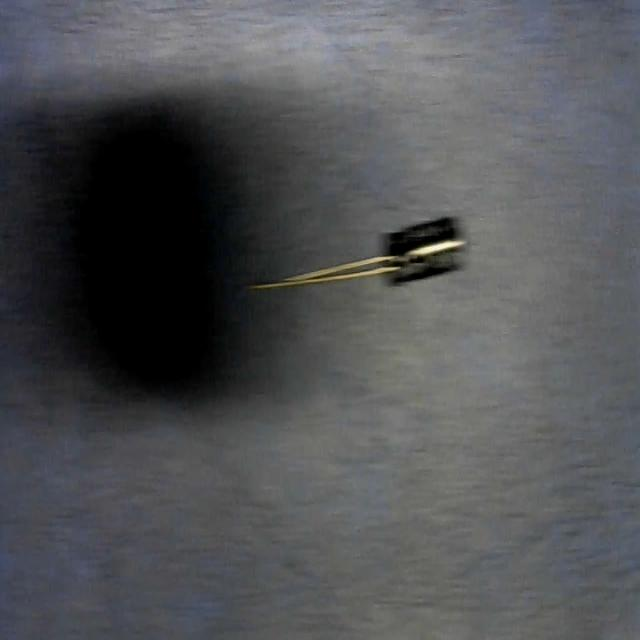capacitor: (245, 216, 462, 304)
